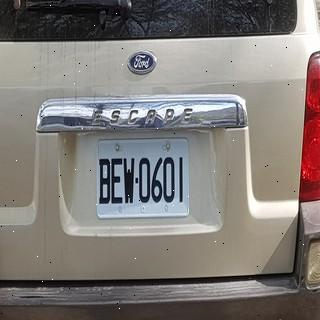license: (92, 156, 192, 210)
